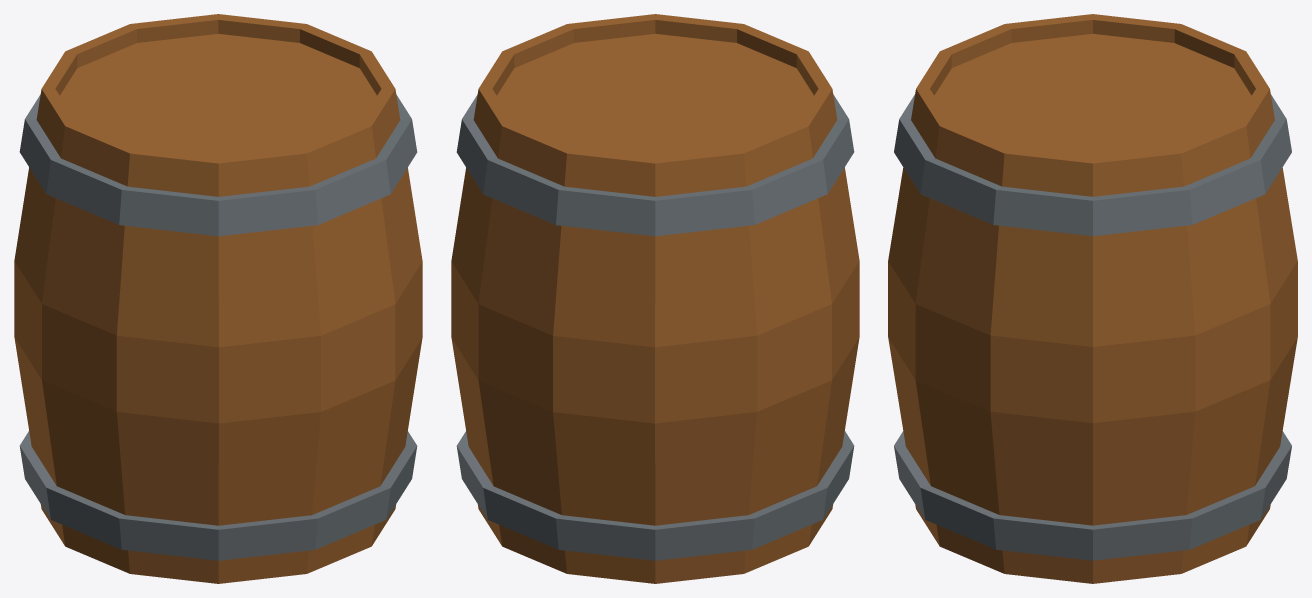
Rendered from barrel.fbx.
3 renders of one model, left to right at view 1: azimuth 30°, elevation 25°; view 2: azimuth 150°, elevation 25°; view 3: azimuth 270°, elevation 25°, orthographic.
Visible parts, largest first — view 1: Cylinder; view 2: Cylinder; view 3: Cylinder.
Part boxes in pixels (bbox=[...]): Cylinder: bbox=[14, 14, 422, 583]; Cylinder: bbox=[451, 14, 859, 583]; Cylinder: bbox=[888, 14, 1297, 583].
Bounding box in the file's own units: 230 × 262 × 232.
